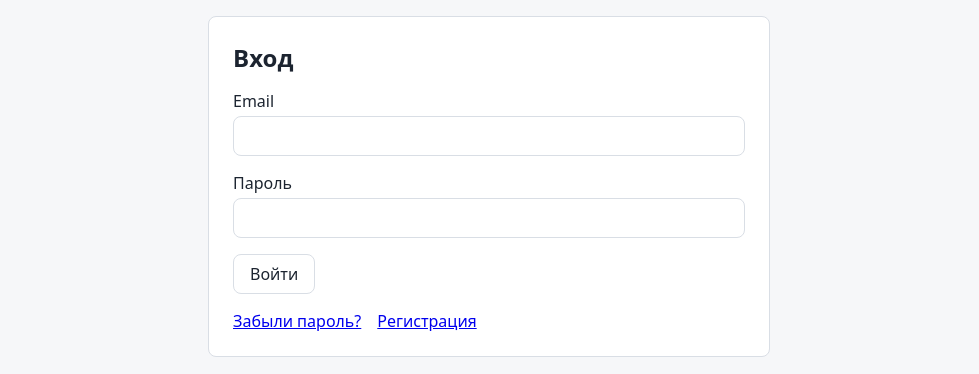
Test: guards of the new pages › FR-17 «A signed-out visitor opens a protected page»: after signing in the visitor lands on /chains
Expected: the heading "Вход" is shown, [233,41,293,74]
In the field labelled "Email": (489,136) [233,116,745,156], type "anna@romashka.test"
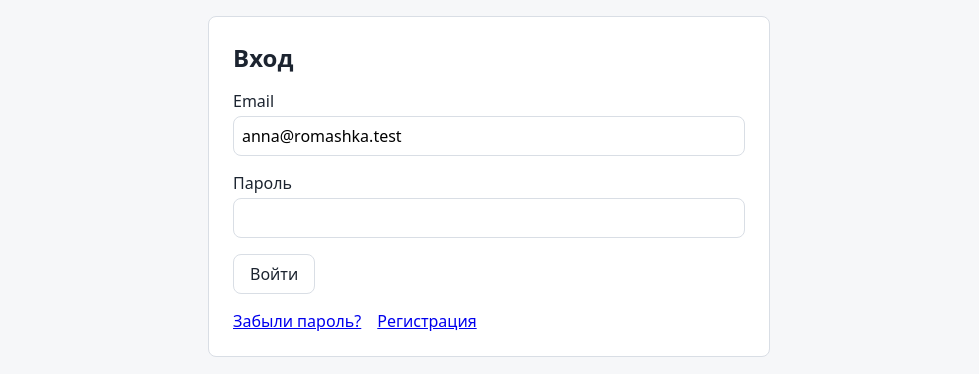
In the password field labelled "Пароль": (489,218) [233,198,745,238], type "correct-horse-1"
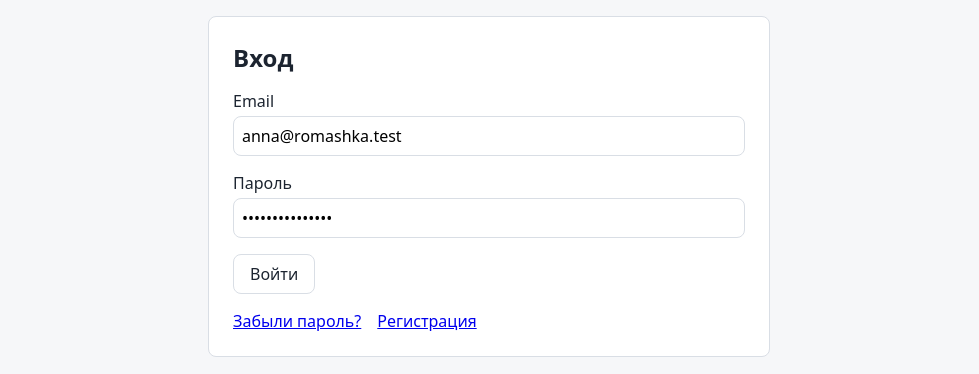
Click the button "Войти": (274,274) [233,254,315,294]
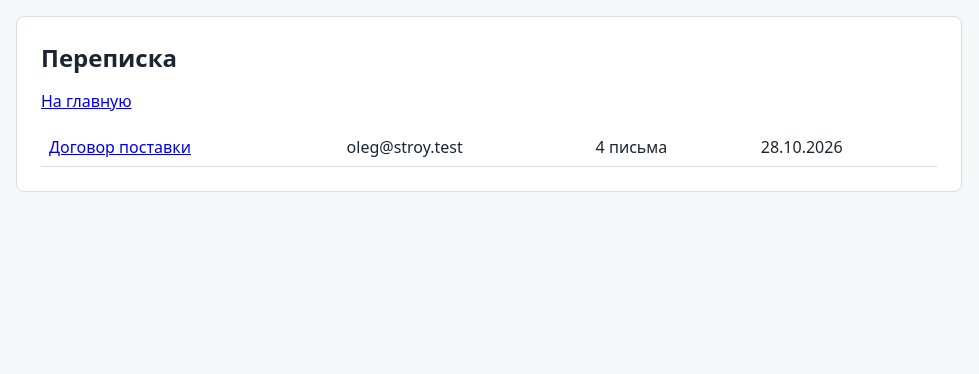
Expected: the text "Договор поставки" is shown, [49,136,191,158]
